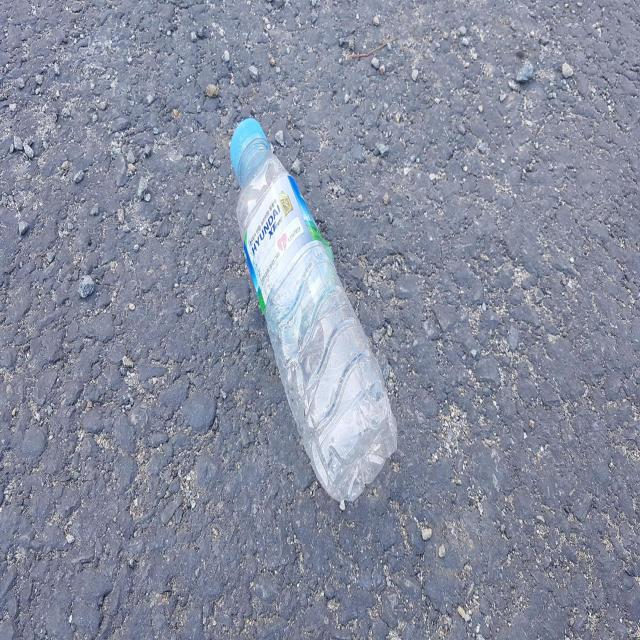plastic: (230, 117, 398, 501)
